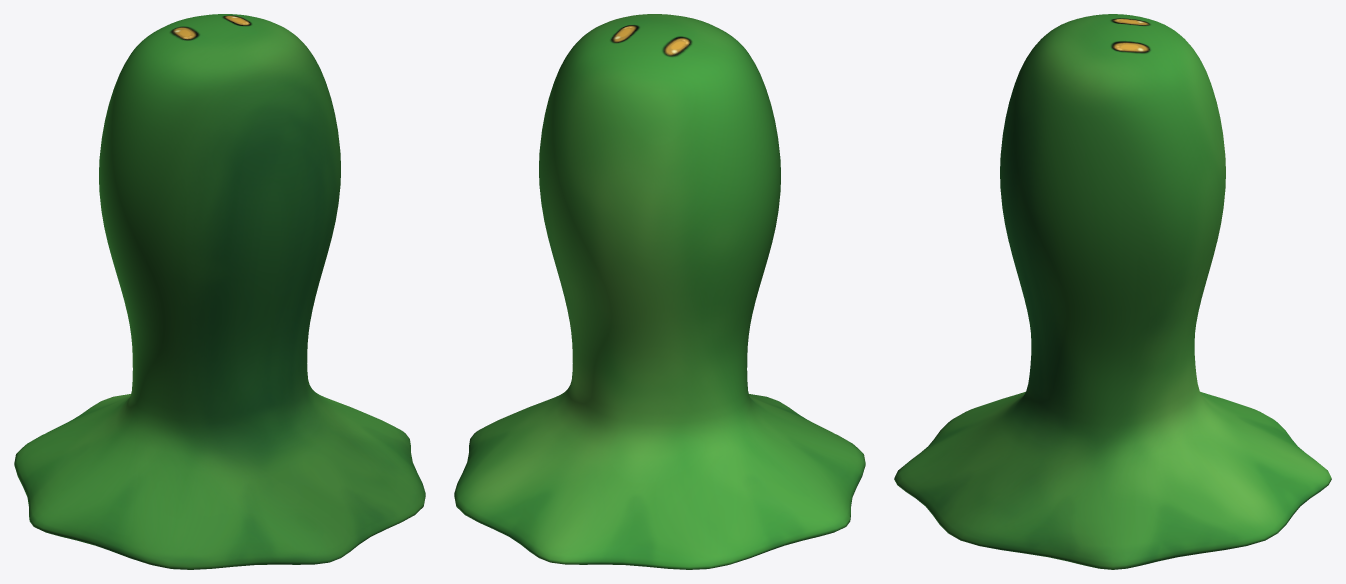
The model's file is Smile B 01.fbx.
The picture shows the model from 3 angles, left to right: view 1: azimuth 30°, elevation 25°; view 2: azimuth 150°, elevation 25°; view 3: azimuth 270°, elevation 25°; orthographic projection.
Parts seen in each view (by area): view 1: Cube.005; view 2: Cube.005; view 3: Cube.005.
Boxes of the visible parts, x1,y1,x2,y2 form: Cube.005: (14,14,425,569); Cube.005: (454,14,865,569); Cube.005: (894,14,1331,569).
Bounding box in the file's own units: 276 × 323 × 283.
